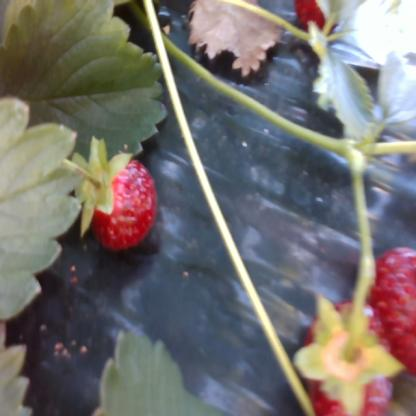ripe: (290, 300, 392, 416), (78, 157, 162, 253), (366, 249, 416, 375), (294, 0, 344, 37)
